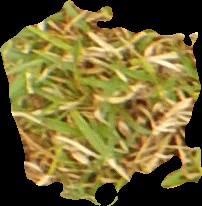grass: (1, 1, 201, 204)
